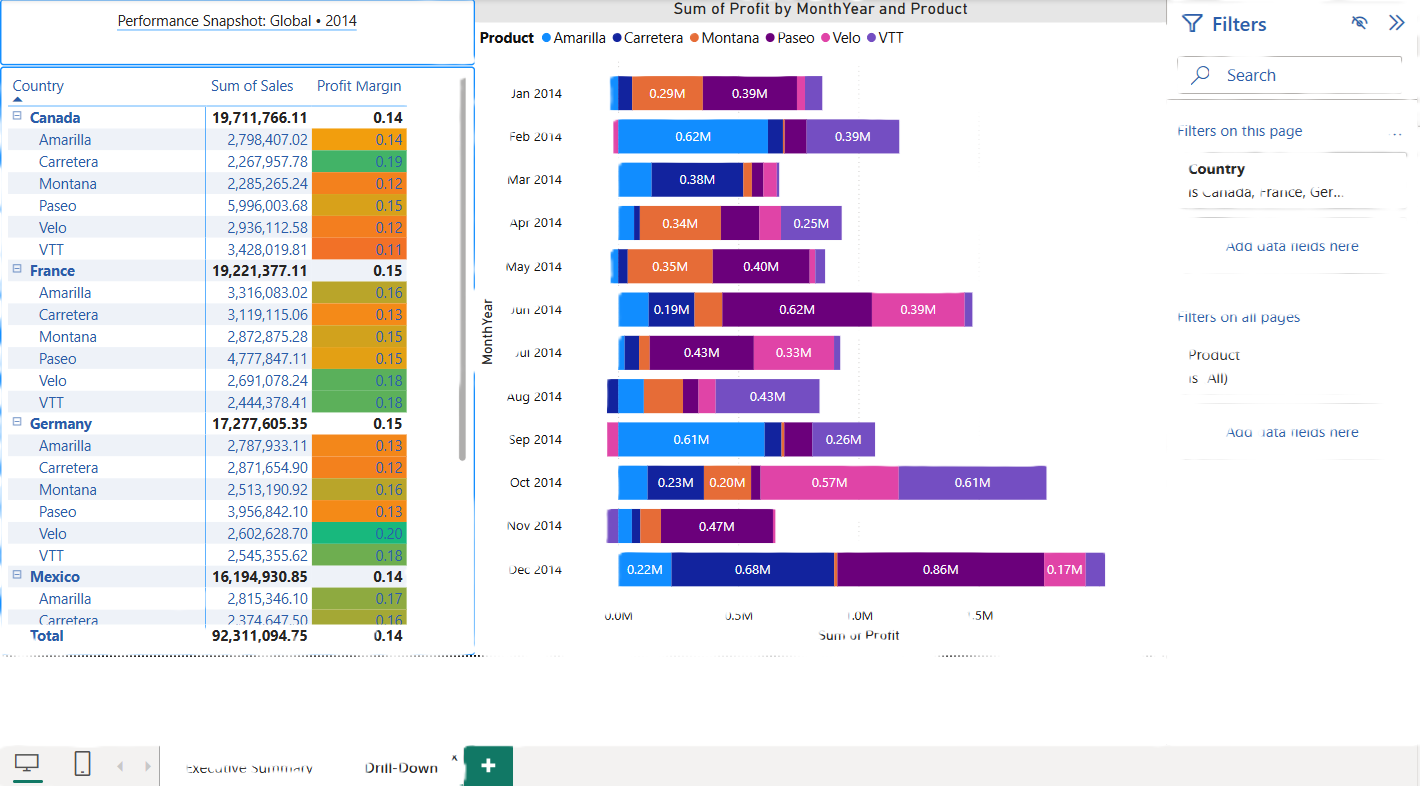

The page's visual inventory and layout, read from the dashboard file:
{"tool":"powerbi","page":{"name":"Drill-Down","canvas":[1280,720],"ordinal":1},"visuals":[{"type":"pivotTable","fields":{"Rows":["financials.Country","financials.Product"],"Values":["Sum(financials. Sales)","financials.Profit Margin"]},"box":[0,74.1,521.4,646.3],"z":0},{"type":"textbox","box":[0,0,521.4,72.7],"z":1000},{"type":"barChart","fields":{"Category":["financials.MonthYear"],"Series":["financials.Product"],"Y":["Sum(financials.Profit)"]},"box":[521.4,0,758.8,712.2],"z":2000}]}

Visuals, with their boxes on the page's 1280x720 design canvas (x1, y1, x2, y2). These are canvas units, not pixel positions in the 1420x786 screenshot, which may show the page scaled, cropped or inside an application window:
pivotTable - financials.Country x financials.Product: (0, 74, 521, 720)
textbox: (0, 0, 521, 73)
barChart - financials.MonthYear x financials.Product: (521, 0, 1280, 712)
